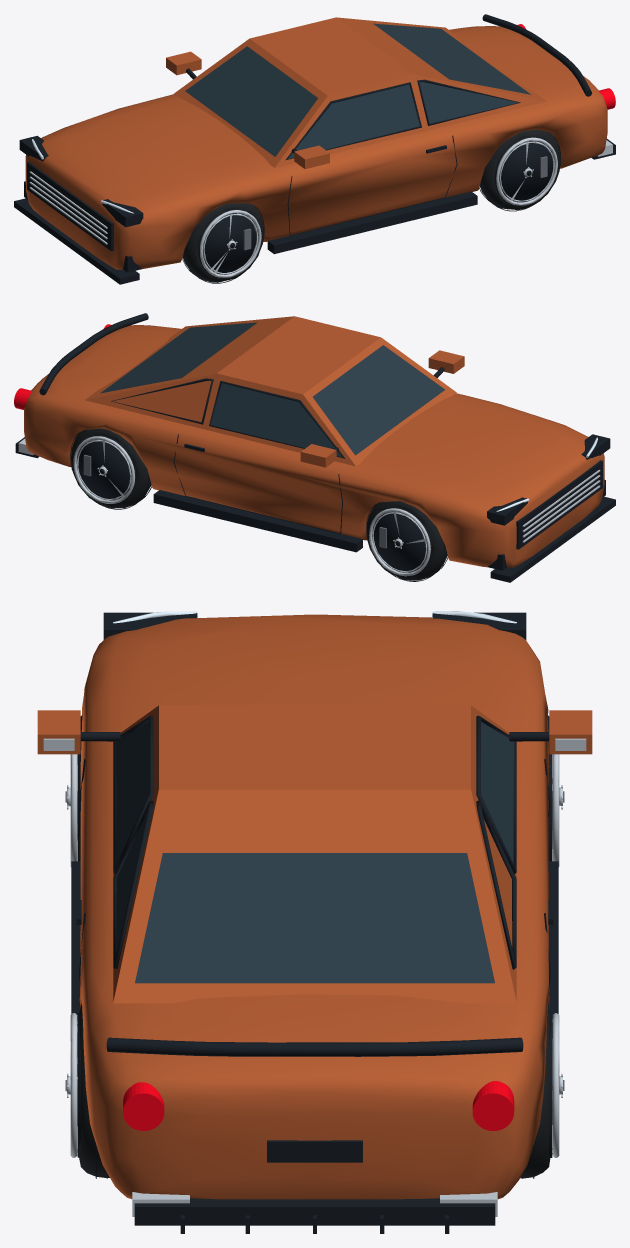
Rendered from car1.glb.
The picture shows the model from 3 angles, top to bottom: view 1: azimuth 30°, elevation 25°; view 2: azimuth 150°, elevation 25°; view 3: azimuth 270°, elevation 25°; orthographic projection. The views are drawn at different scales.
Visible parts, largest first — view 1: COUPE | Low sculpted body, COUPE | Long door window, COUPE | Wheel cap inset, COUPE | Swept coupe roof, COUPE | Machined rim lip.003, COUPE | Road tire.002; view 2: COUPE | Low sculpted body, COUPE | Swept coupe roof, COUPE | Wheel cap inset, COUPE | Long door window, COUPE | Machined rim lip.003, COUPE | Road tire.002; view 3: COUPE | Low sculpted body, COUPE | Swept coupe roof, COUPE | Long door window, COUPE | Wheel cap inset, COUPE | Machined rim lip.003, COUPE | Road tire.002, Cylinder.
Boxes of the visible parts, <box> form: COUPE | Low sculpted body: <box>25,26,607,269</box>; COUPE | Long door window: <box>185,23,530,158</box>; COUPE | Wheel cap inset: <box>14,14,615,284</box>; COUPE | Swept coupe roof: <box>174,17,546,167</box>; COUPE | Machined rim lip.003: <box>29,137,612,277</box>; COUPE | Road tire.002: <box>182,129,560,282</box>; COUPE | Low sculpted body: <box>24,325,604,567</box>; COUPE | Swept coupe roof: <box>85,316,456,466</box>; COUPE | Wheel cap inset: <box>15,313,615,582</box>; COUPE | Long door window: <box>100,322,444,457</box>; COUPE | Machined rim lip.003: <box>18,436,600,576</box>; COUPE | Road tire.002: <box>70,428,447,580</box>; COUPE | Low sculpted body: <box>37,614,592,1199</box>; COUPE | Swept coupe roof: <box>113,705,516,1003</box>; COUPE | Long door window: <box>116,721,513,983</box>; COUPE | Wheel cap inset: <box>65,612,564,1233</box>; COUPE | Machined rim lip.003: <box>43,738,586,1216</box>; COUPE | Road tire.002: <box>78,715,551,1178</box>; Cylinder: <box>123,1081,514,1130</box>.
Bounding box in the file's own units: 4.86 × 1.34 × 2.31.
